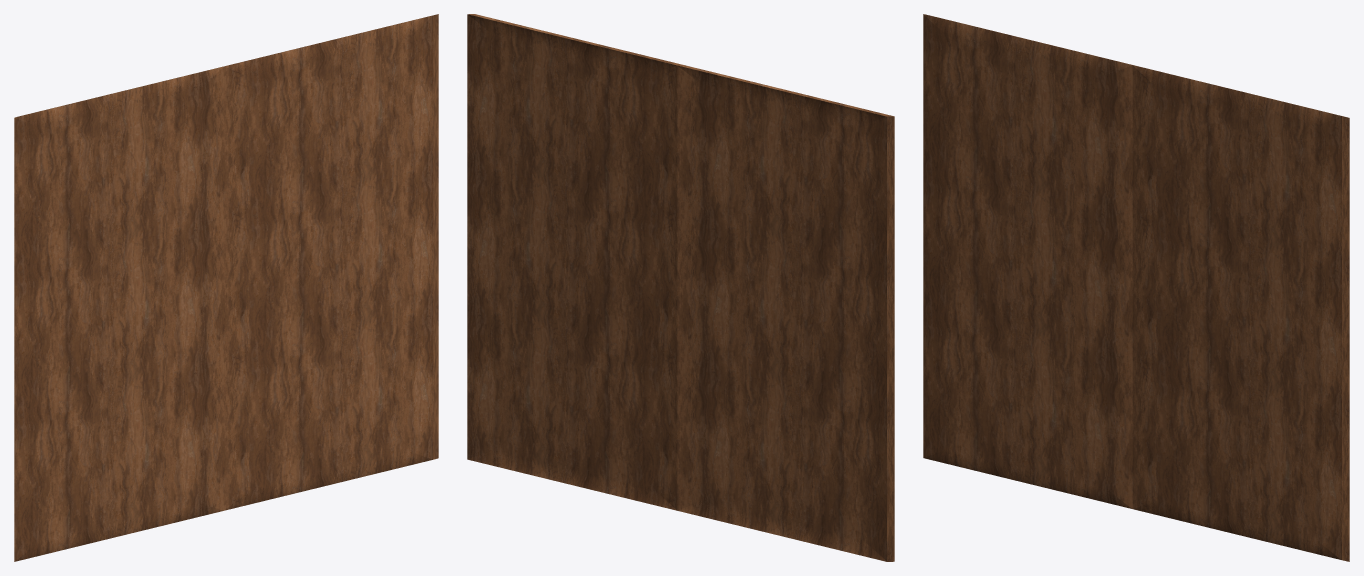
File: PG-08 - Grove.glb
The picture shows the model from 3 angles, left to right: view 1: azimuth 30°, elevation 25°; view 2: azimuth 150°, elevation 25°; view 3: azimuth 330°, elevation 25°; orthographic projection.
Visible parts, largest first — view 1: panel-parts4-.001; view 2: panel-parts4-.001; view 3: panel-parts4-.001.
Boxes of the visible parts, left/top/right/bottom form: panel-parts4-.001: left=14, top=14, right=438, bottom=561; panel-parts4-.001: left=467, top=14, right=894, bottom=561; panel-parts4-.001: left=923, top=14, right=1349, bottom=561.
Bounding box in the file's own units: 2 × 2 × 0.016.
Materials: 1 (1 with a texture image).
